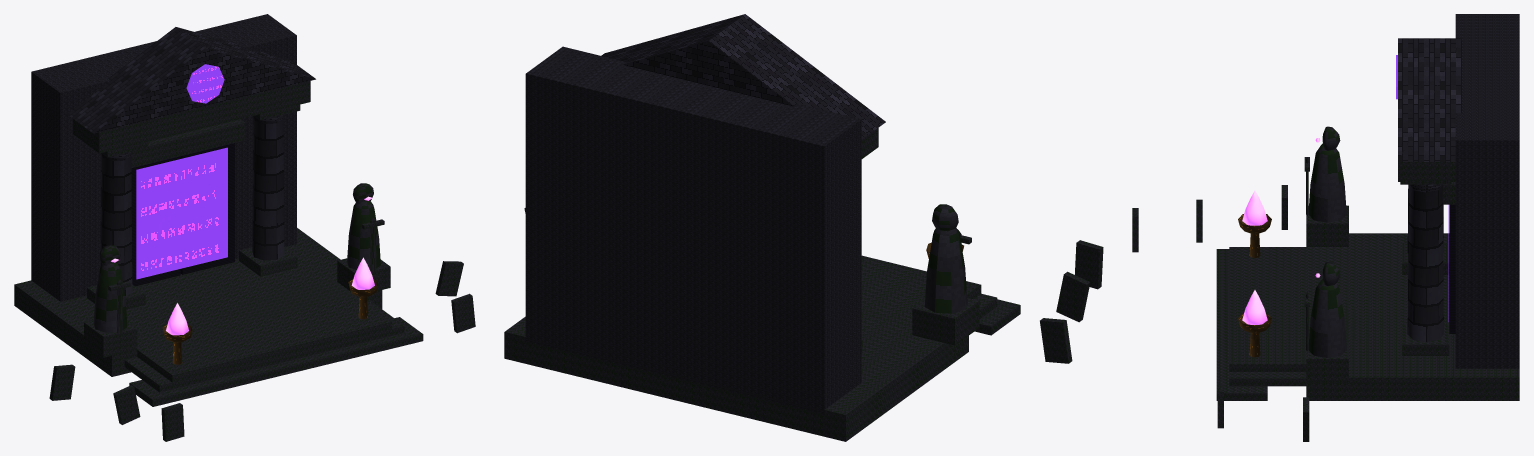
Rendered from gruft.glb.
3 views of the same model, side by side, from view 1: azimuth 30°, elevation 25°; view 2: azimuth 150°, elevation 25°; view 3: azimuth 270°, elevation 25° (orthographic). The views are drawn at different scales.
Parts seen in each view (by area): view 1: backWall, platform, pediment, step2, doorRunes, lintel, pillar1, step0, pillar-1, step1, doorArch, statueBody-1 (+17 smaller); view 2: backWall, platform, pediment, step2, statueBody-1, statueBase-1, grave1, grave0, grave4, step0, statueHood-1; view 3: backWall, platform, step2, pediment, pillar1, step0, statueBody1, statueBody-1, statueBase1, statueBase-1, step1, lintel (+7 smaller).
Part boxes in pixels (box(x1,y1,x2,y2)): backWall: box(31, 14, 296, 301); platform: box(14, 228, 382, 376); pediment: box(67, 27, 315, 133); step2: box(137, 279, 391, 382); doorRunes: box(136, 147, 227, 279); lintel: box(73, 81, 310, 153); pillar1: box(252, 114, 284, 260); step0: box(129, 317, 423, 406); pillar-1: box(100, 151, 132, 296); step1: box(124, 300, 404, 392); doorArch: box(131, 119, 245, 167); statueBody-1: box(93, 262, 127, 332); backWall: box(525, 46, 861, 414); platform: box(504, 299, 968, 441); pediment: box(601, 14, 885, 139); step2: box(861, 255, 981, 338); statueBody-1: box(924, 228, 967, 313); statueBase-1: box(912, 298, 979, 345); grave1: box(1040, 318, 1072, 363); grave0: box(1056, 271, 1090, 322); grave4: box(1075, 240, 1103, 289); step0: box(974, 299, 1020, 335); statueHood-1: box(932, 204, 958, 230); backWall: box(1455, 14, 1519, 368); platform: box(1306, 233, 1519, 400); step2: box(1229, 247, 1357, 371); pediment: box(1398, 38, 1461, 161); pillar1: box(1407, 184, 1443, 342); step0: box(1216, 249, 1267, 400); statueBody1: box(1308, 279, 1346, 357); statueBody-1: box(1308, 143, 1346, 222); statueBase1: box(1306, 341, 1348, 382); statueBase-1: box(1306, 205, 1348, 246); step1: box(1229, 372, 1306, 386); lintel: box(1398, 162, 1455, 181).
Size of the model in its own units: 24.93 by 15.11 by 18.15.
6 materials, 5 textured.
